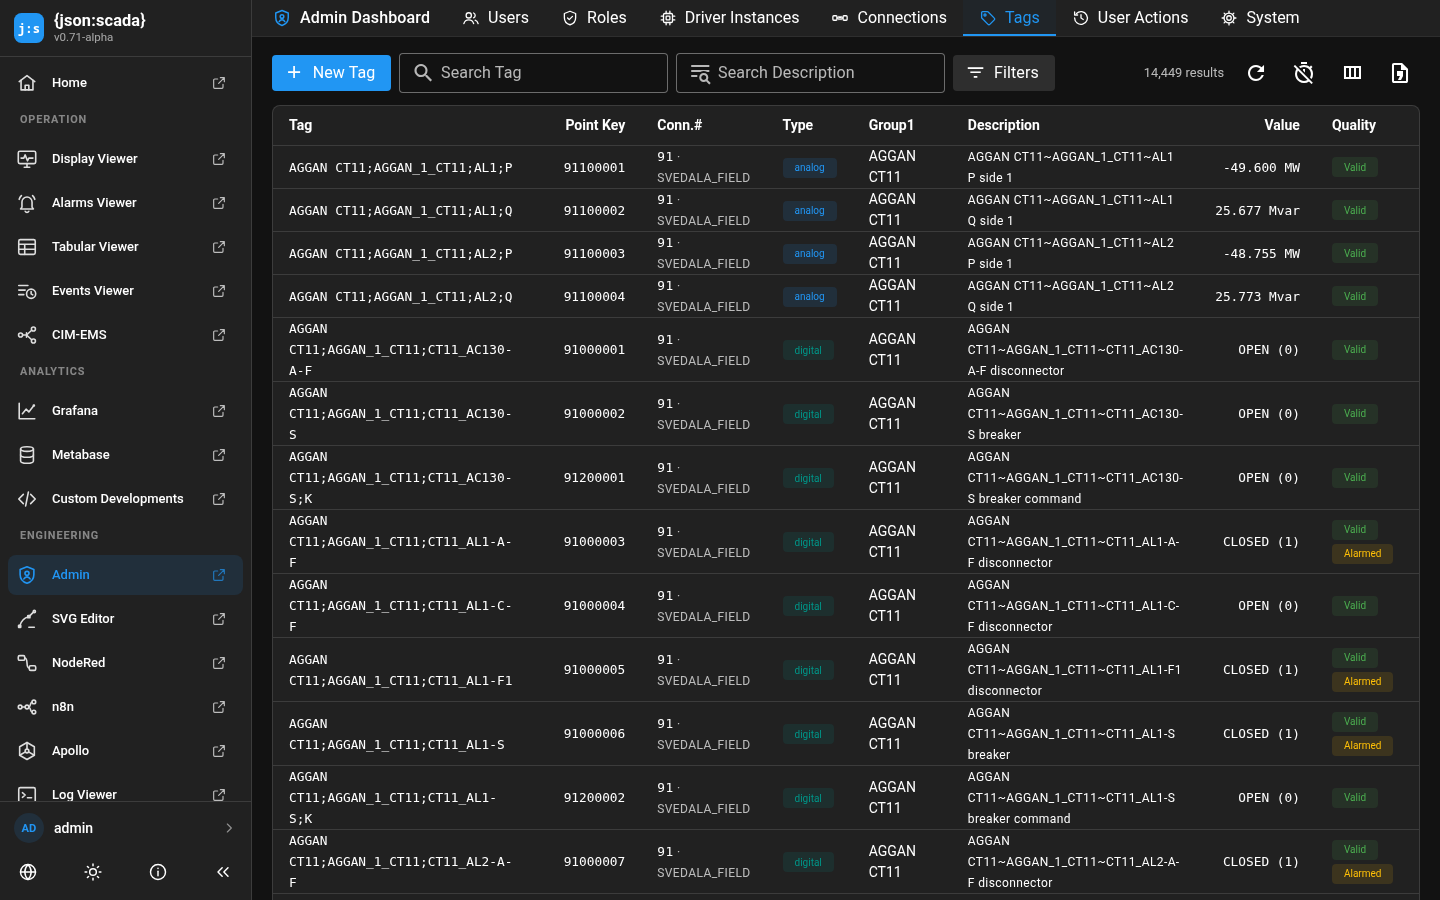

What the dashboard file says about the page in this screenshot:
{"tool":"powerbi","page":{"name":"Página 2","canvas":[1280,720],"ordinal":1},"visuals":[{"type":"tableEx","fields":{"Values":["public realtime_data.tag","public realtime_data.json_data.value","public realtime_data.json_data.valueString","public realtime_data.json_data.unit","public realtime_data.json_data.invalid","public realtime_data.json_data.type","public realtime_data.json_data.group2","public realtime_data.json_data.group1","public realtime_data.json_data.description","public realtime_data.json_data.alarmed"]},"box":[10.3,0,1249,696],"z":0}]}

Visuals, with their boxes on the page's 1280x720 design canvas (x1, y1, x2, y2). These are canvas units, not pixel positions in the 1440x900 screenshot, which may show the page scaled, cropped or inside an application window:
tableEx - public realtime_data.tag x public realtime_data.json_data.value: [10, 0, 1259, 696]
